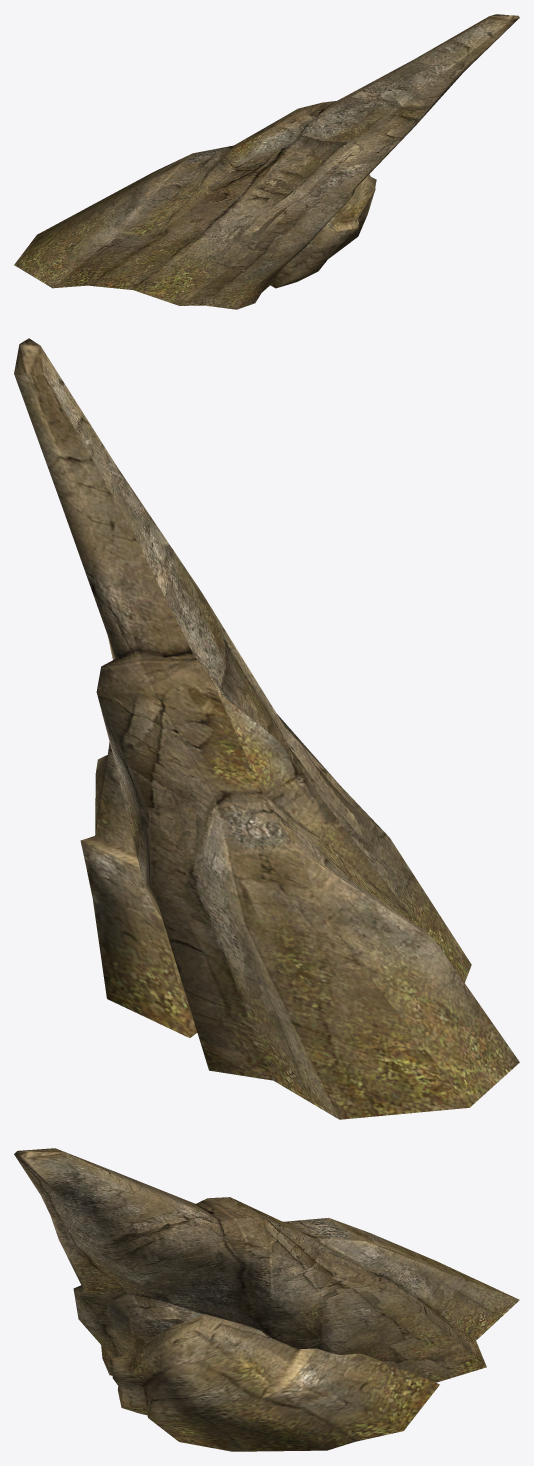
Rendered from trigonal_rock_04.fbx.
The picture shows the model from 3 angles, top to bottom: view 1: azimuth 30°, elevation 25°; view 2: azimuth 150°, elevation 25°; view 3: azimuth 270°, elevation 25°; orthographic projection. The views are drawn at different scales.
Visible parts, largest first — view 1: objtrigonal_rock_04; view 2: objtrigonal_rock_04; view 3: objtrigonal_rock_04.
Boxes of the visible parts, x1,y1,x2,y2 form: objtrigonal_rock_04: [14, 14, 519, 309]; objtrigonal_rock_04: [14, 338, 519, 1119]; objtrigonal_rock_04: [14, 1148, 519, 1451].
Bounding box in the file's own units: 9.45 × 5.93 × 6.63.
